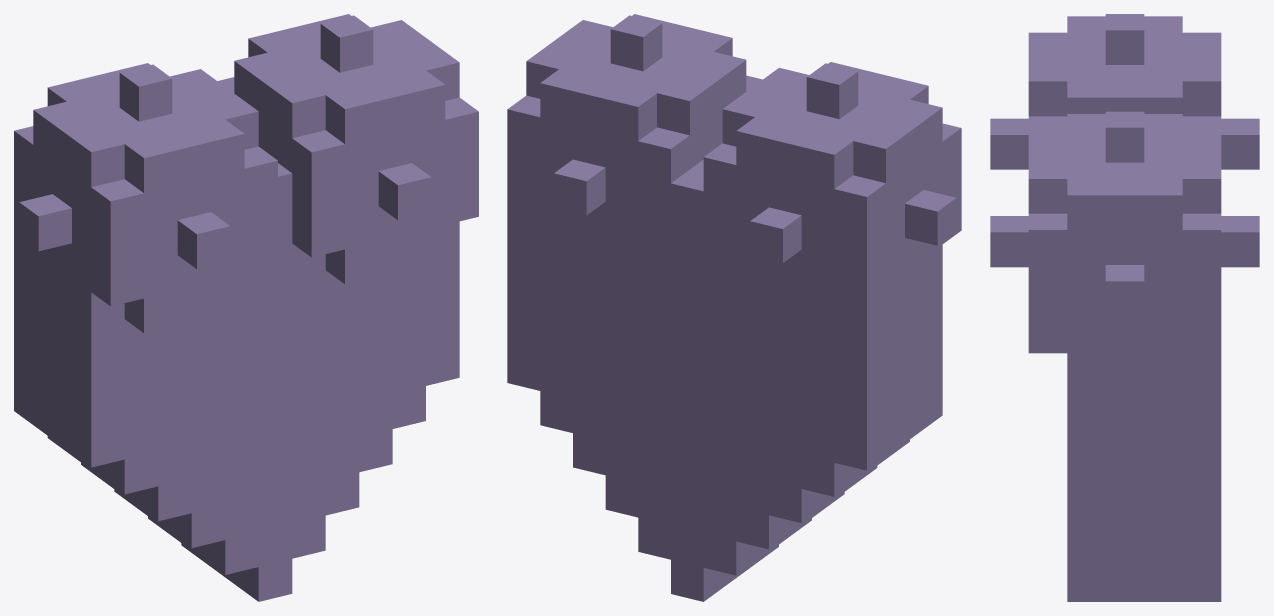
Rendered from social-06.glb.
The picture shows the model from 3 angles, left to right: view 1: azimuth 30°, elevation 25°; view 2: azimuth 150°, elevation 25°; view 3: azimuth 270°, elevation 25°; orthographic projection. The views are drawn at different scales.
Parts seen in each view (by area): view 1: Reaction heart; view 2: Reaction heart; view 3: Reaction heart.
Part boxes in pixels (box(x1,y1,x2,y2)): Reaction heart: box(14, 14, 478, 601); Reaction heart: box(507, 14, 961, 601); Reaction heart: box(990, 14, 1259, 601).
Bounding box in the file's own units: 1.04 × 1.2 × 0.56.
